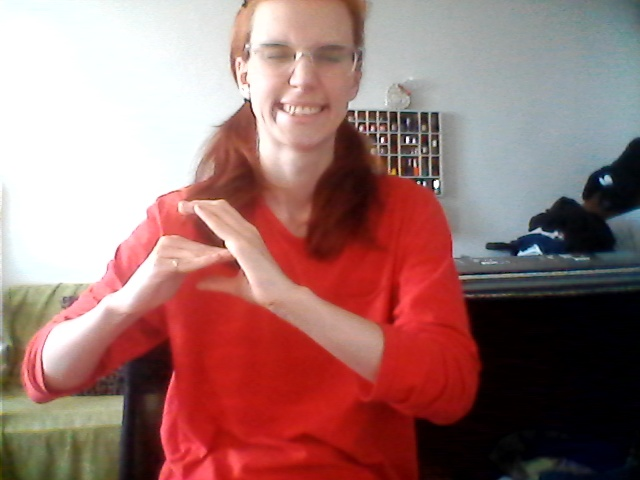e: (133, 193, 288, 321)
